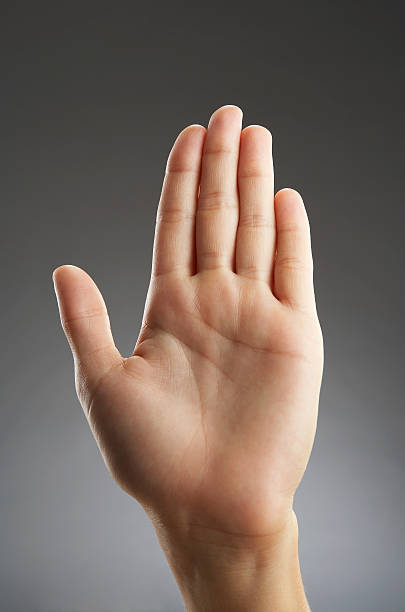non-diseased: (70, 79, 343, 546)
